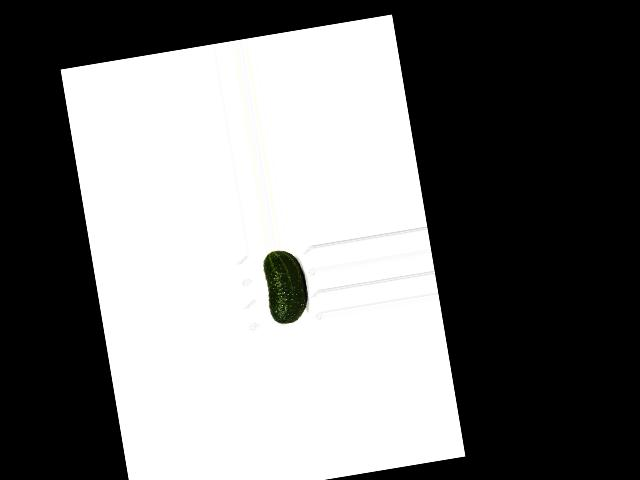cucumber: (261, 247, 311, 326)
